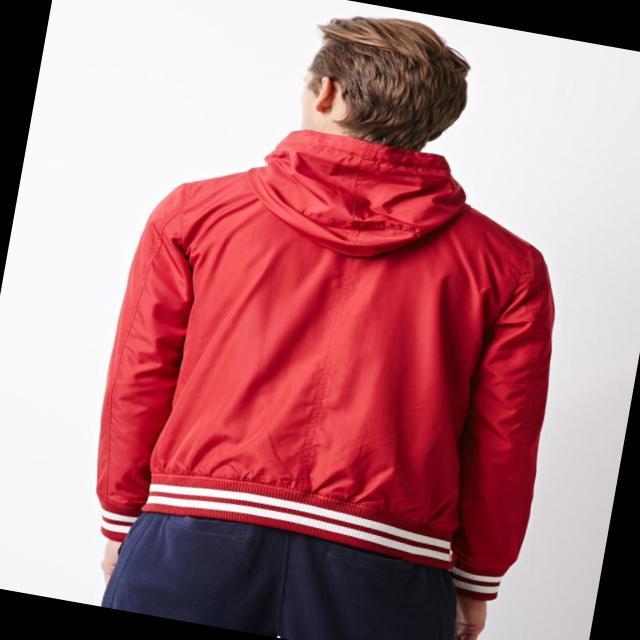Jacket: (69, 113, 592, 602)
